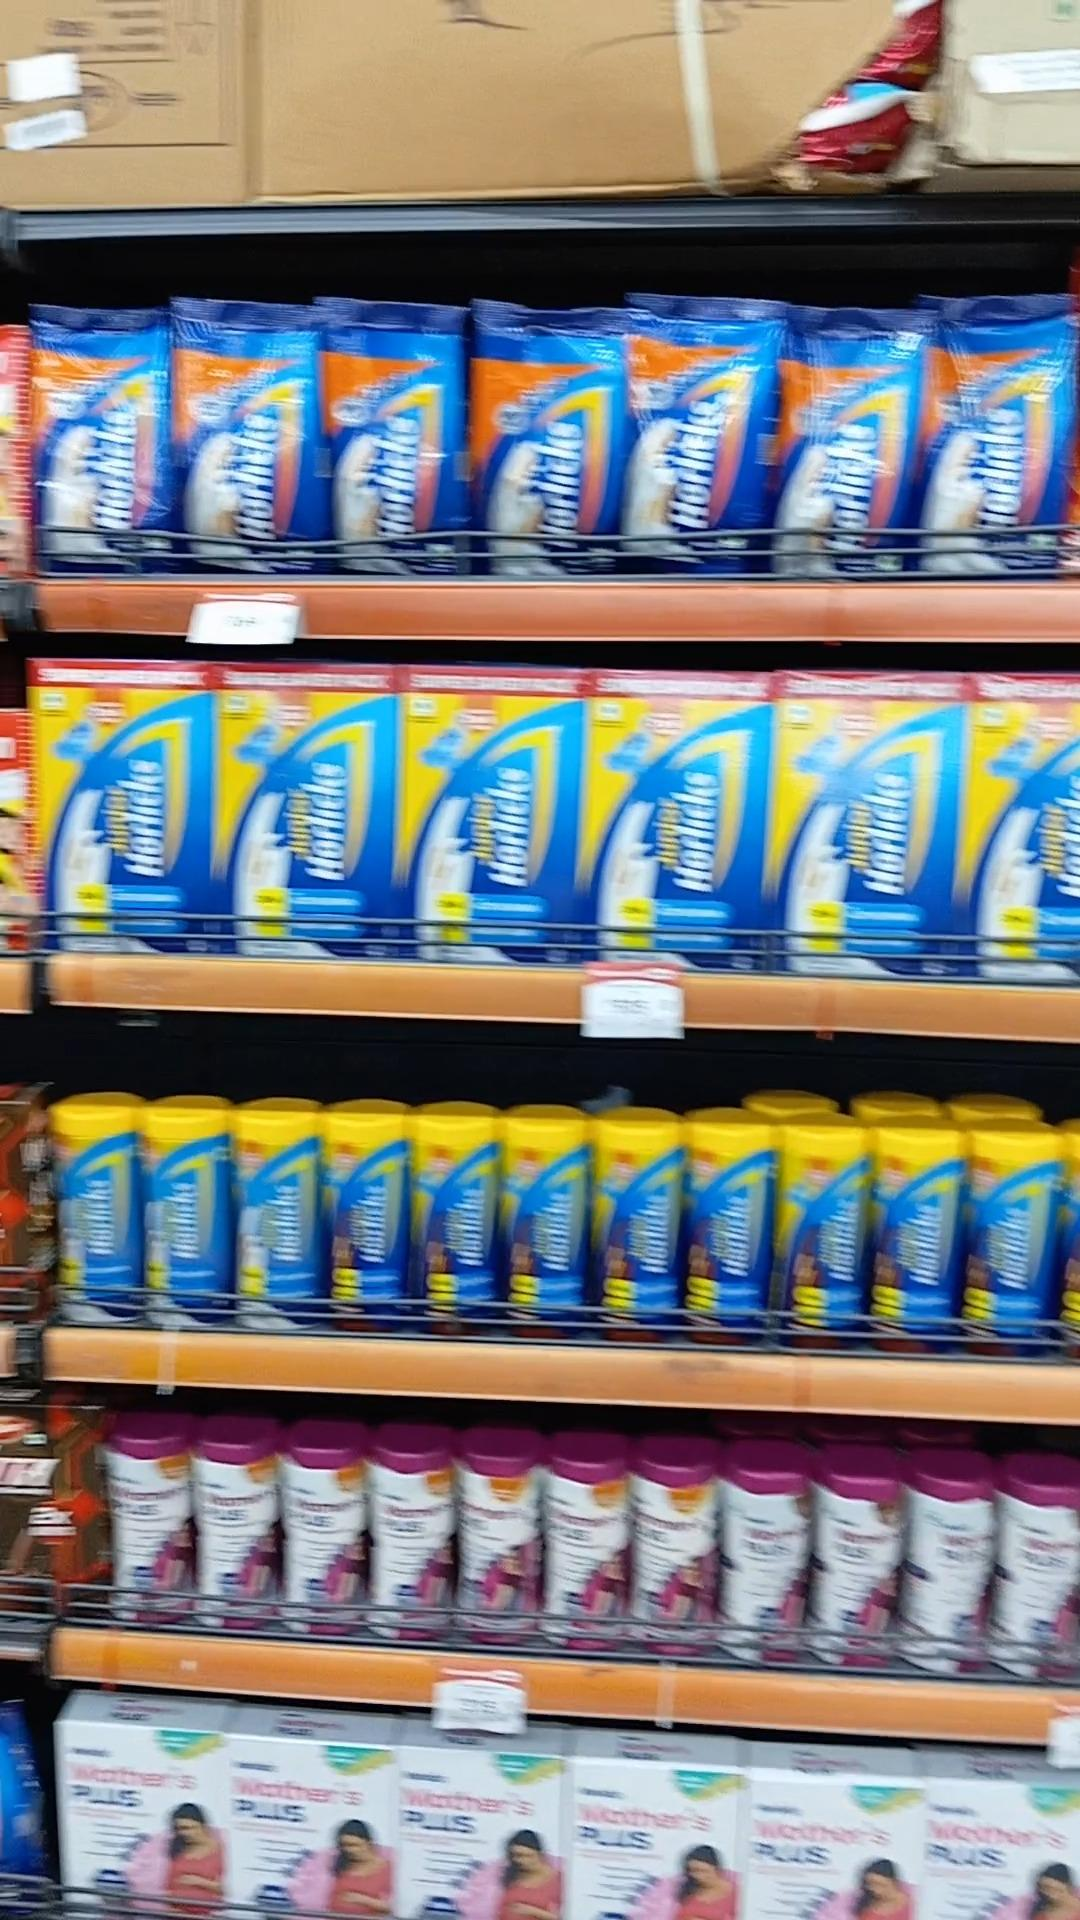HORLICKS_JUNIOR_VANILLA_500_GM_JAR: (976, 1255, 1080, 1524), (771, 1246, 865, 1513), (874, 1255, 967, 1510), (50, 1084, 141, 1335), (596, 1110, 688, 1341), (417, 1109, 504, 1340), (328, 1113, 415, 1338), (248, 1102, 331, 1331), (150, 1109, 235, 1333), (513, 1117, 593, 1345)
HORLICK_CLASSIC_MALT_750_G_POUCH: (616, 302, 774, 587), (779, 287, 922, 587), (927, 287, 1067, 591), (468, 307, 607, 591), (177, 302, 318, 578), (324, 302, 463, 580), (30, 302, 170, 566)
